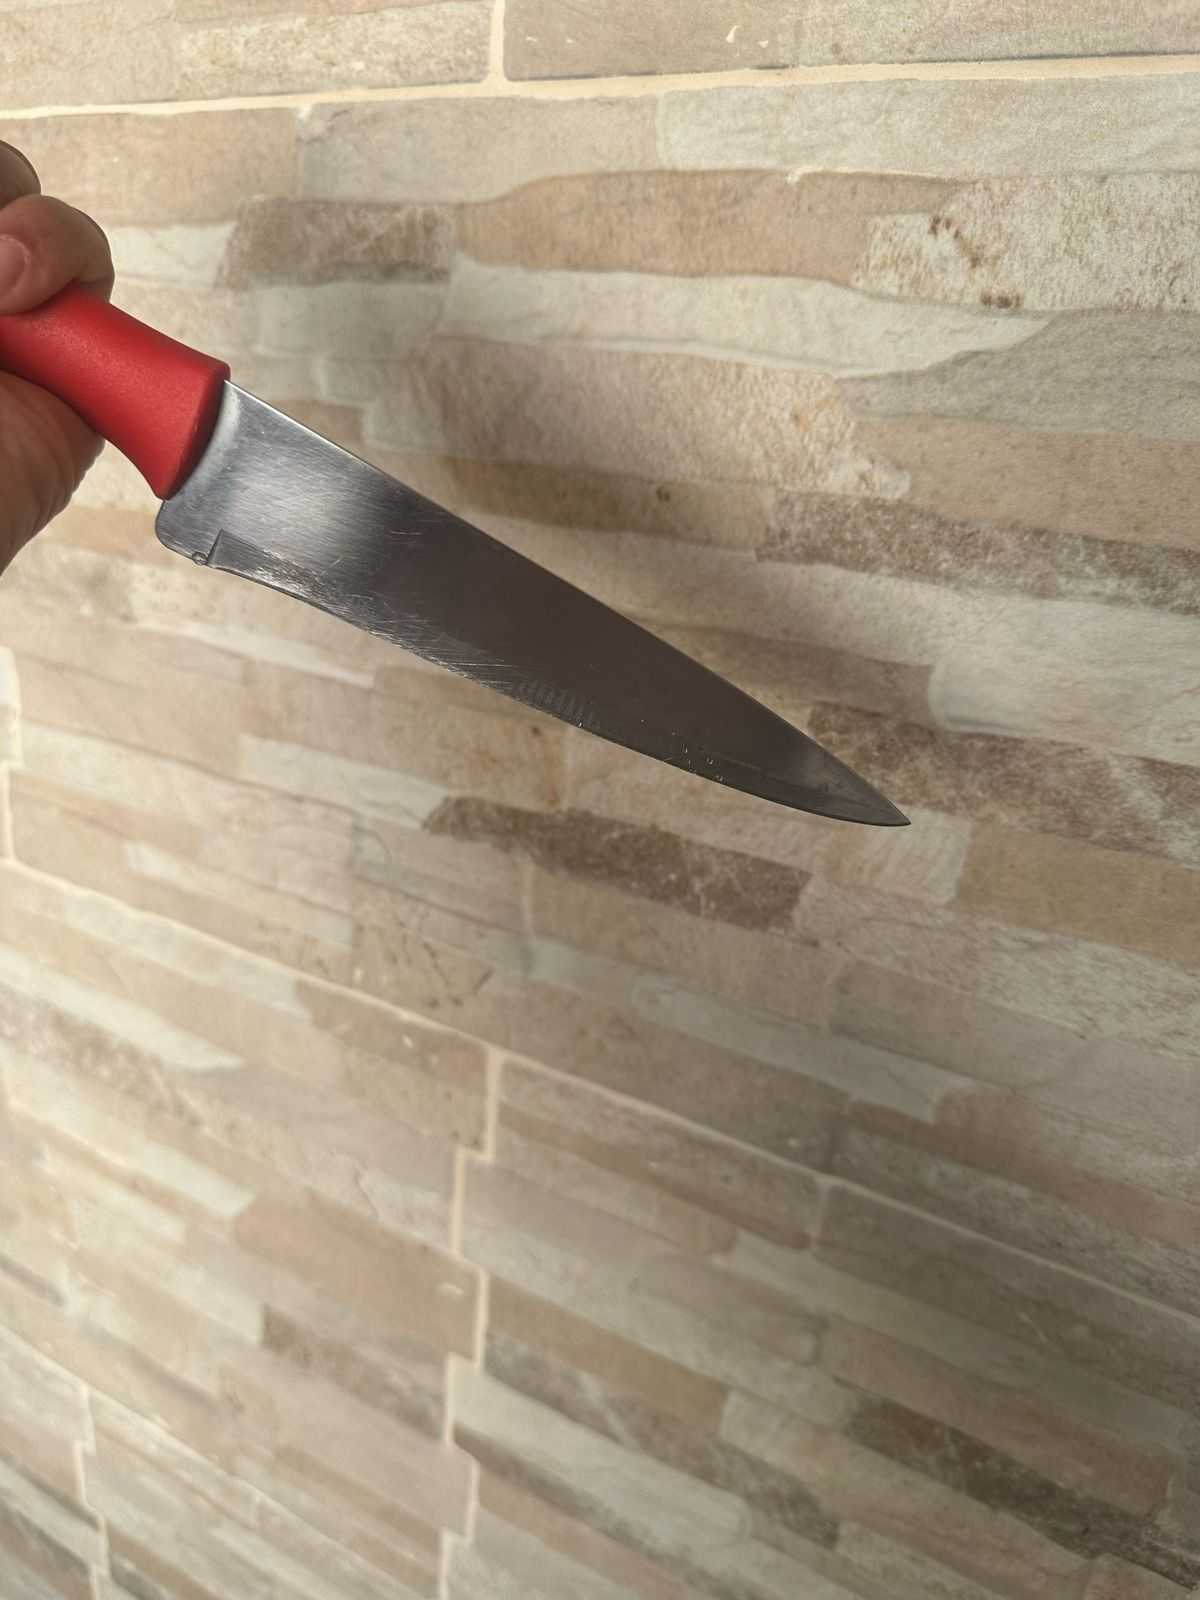faca: (88, 312, 942, 864)
